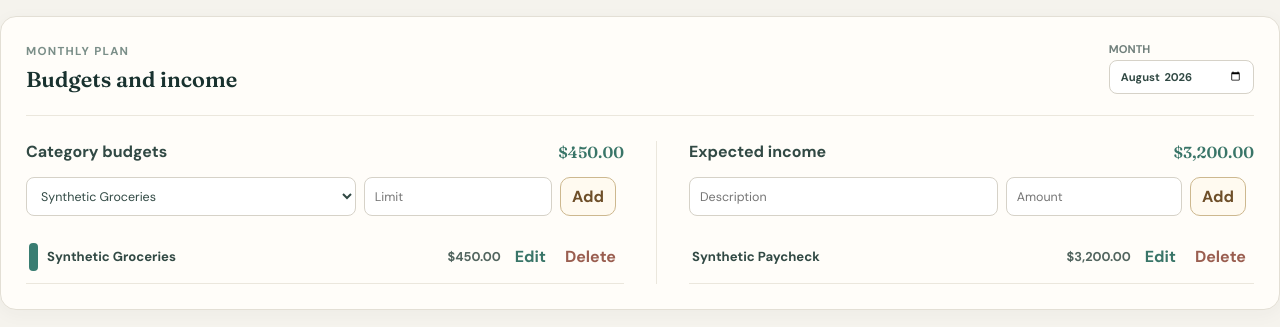
Test: MonthlyPlanManager › refreshes the summary after deleting budget and income entries
Expected: the text "Synthetic Paycheck" is shown, x1=692 y1=248 x2=820 y2=265
Step 1. Click the button "Delete" in the row of "Synthetic Groceries" → [590, 256], box x1=560 y1=241 x2=621 y2=272
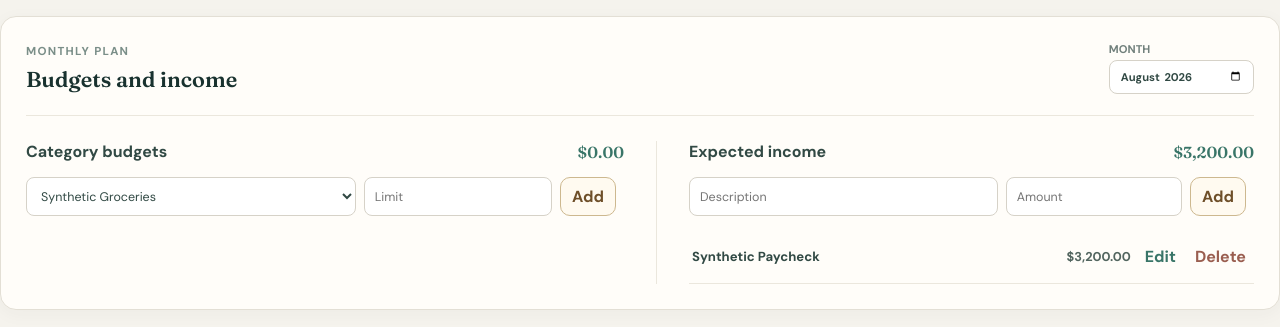
Expected: the text "$450.00" is gone
Step 2. Click the button "Delete" → [1220, 256], box x1=1190 y1=241 x2=1251 y2=272
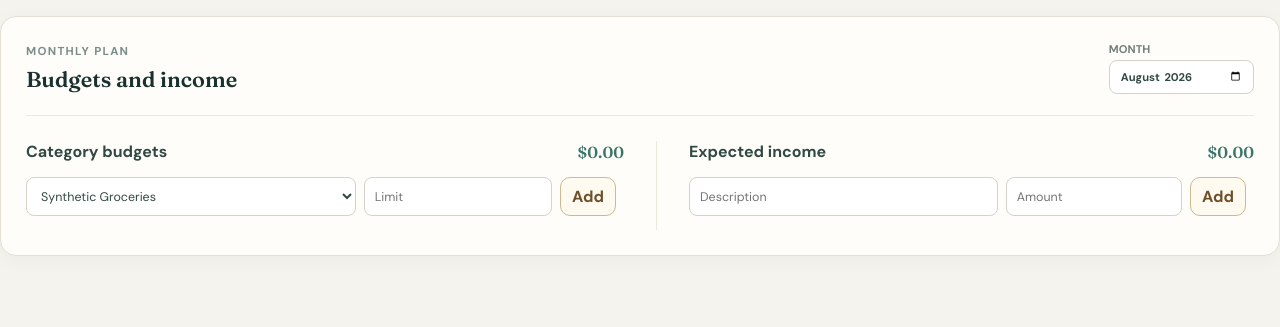
Expected: the text "Synthetic Paycheck" is gone
